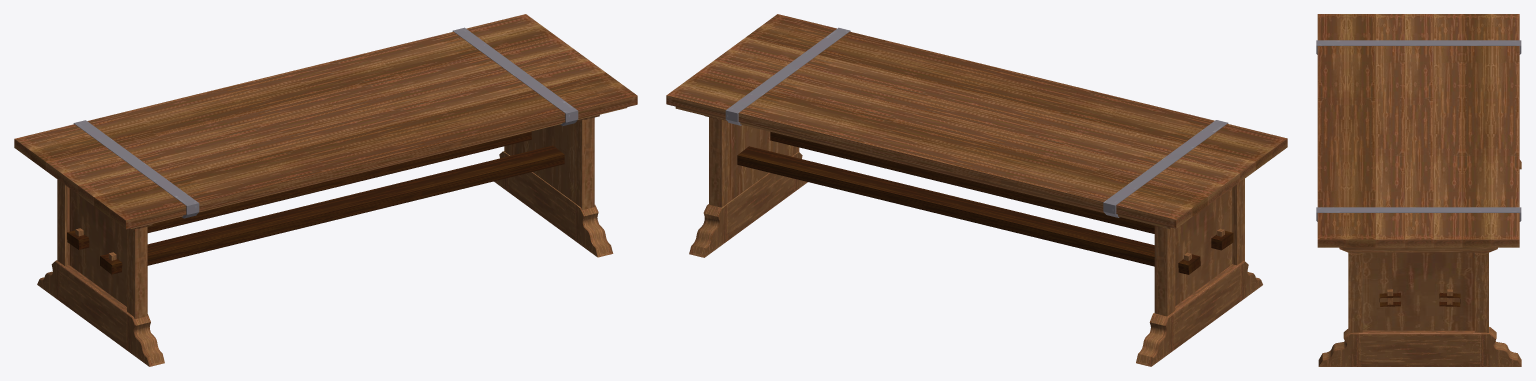
File: quaternius-fantasy-props-table-large.glb
3 renders of one model, left to right at view 1: azimuth 30°, elevation 25°; view 2: azimuth 150°, elevation 25°; view 3: azimuth 270°, elevation 25°, orthographic. The views are drawn at different scales.
Visible parts, largest first — view 1: Table_Large; view 2: Table_Large; view 3: Table_Large.
Part boxes in pixels (x1,y1,x2,y2): Table_Large: (14, 14, 637, 366); Table_Large: (666, 14, 1287, 366); Table_Large: (1316, 14, 1521, 366).
Size of the model in its own units: 2.2 by 0.6283 by 0.847.
2 materials, 2 textured.
